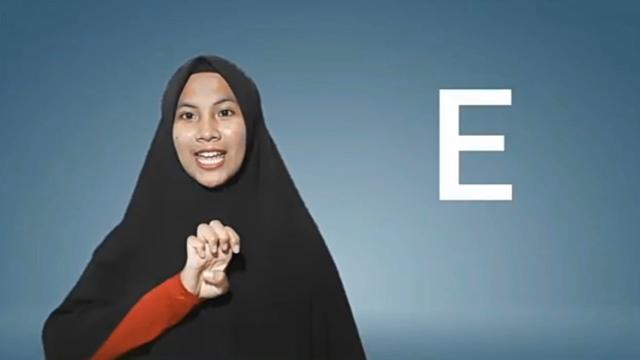E: (183, 219, 241, 303)
